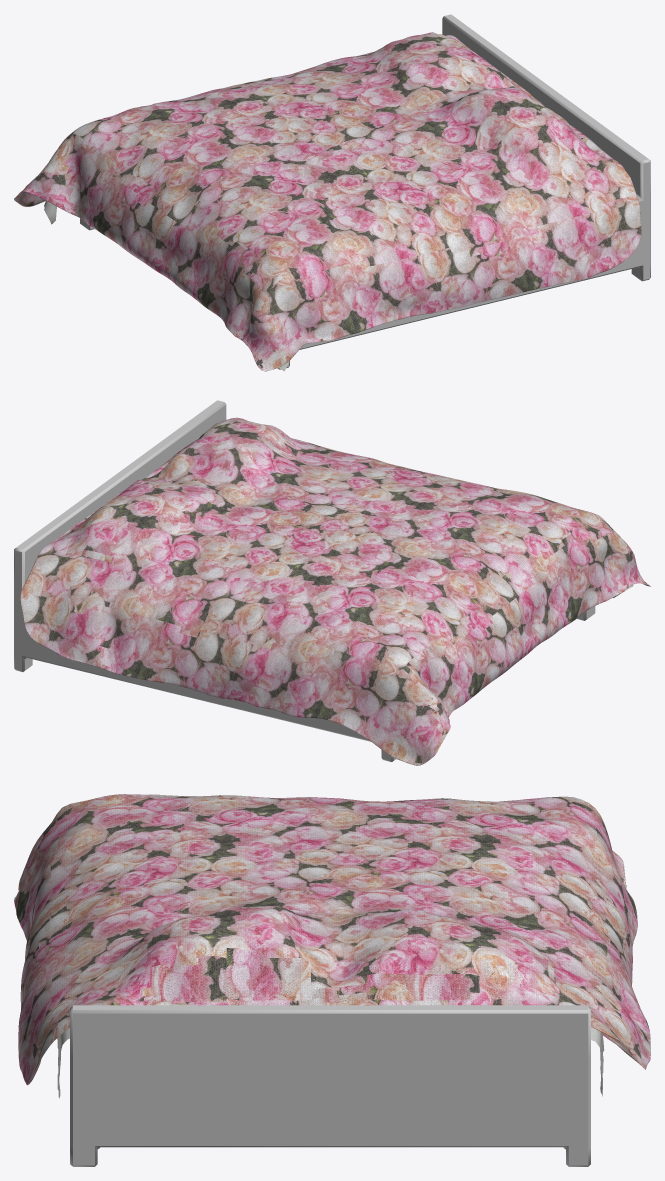
Rendered from GrandmaBed.fbx.
3 views of the same model, one above another, from view 1: azimuth 30°, elevation 25°; view 2: azimuth 150°, elevation 25°; view 3: azimuth 270°, elevation 25° (orthographic). The views are drawn at different scales.
Visible parts, largest first — view 1: Blanket, Bedframe; view 2: Blanket, Bedframe; view 3: Blanket, Bedframe, Bedsheet.
Part boxes in pixels (left/top/right/bottom): Blanket: left=14, top=32, right=641, bottom=371; Bedframe: left=80, top=14, right=650, bottom=369; Blanket: left=20, top=417, right=650, bottom=765; Bedframe: left=14, top=400, right=595, bottom=761; Blanket: left=14, top=794, right=650, bottom=1085; Bedframe: left=70, top=1005, right=590, bottom=1166; Bedsheet: left=57, top=1027, right=604, bottom=1098.
Size of the model in its own units: 2.48 by 0.8513 by 2.45.
